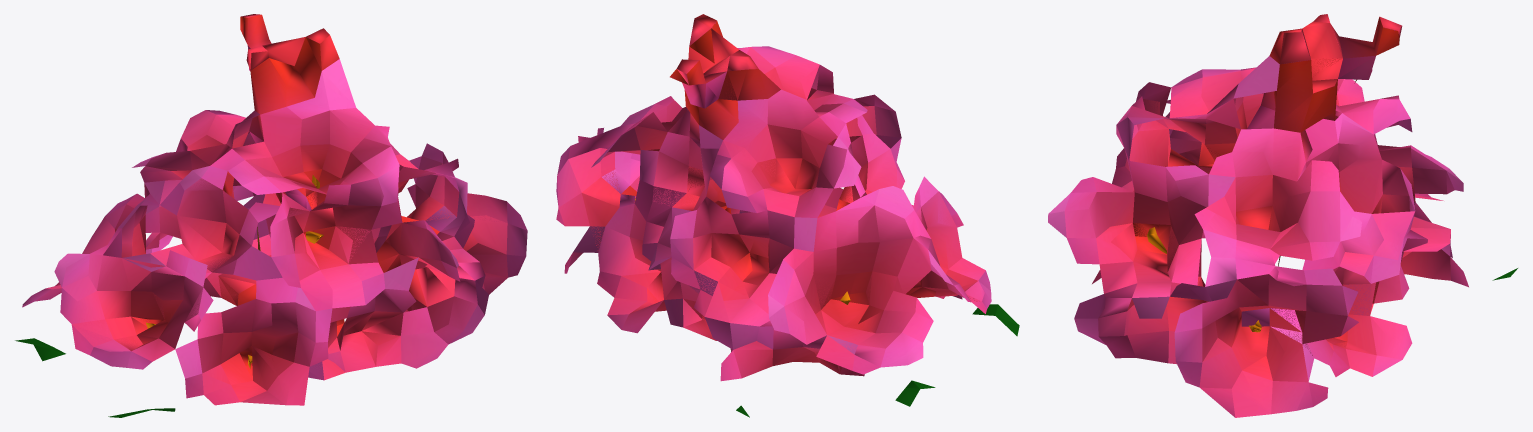
3 renders of one model, left to right at view 1: azimuth 30°, elevation 25°; view 2: azimuth 150°, elevation 25°; view 3: azimuth 270°, elevation 25°, orthographic. The views are drawn at different scales.
Parts seen in each view (by area): view 1: 0d4f2af2; view 2: 0d4f2af2; view 3: 0d4f2af2.
Part boxes in pixels (x1,y1,x2,y2): 0d4f2af2: (15, 14, 527, 417); 0d4f2af2: (556, 14, 1019, 417); 0d4f2af2: (1048, 14, 1517, 417).
Bounding box in the file's own units: 0.1648 × 0.109 × 0.145.
4 materials, 2 textured.
